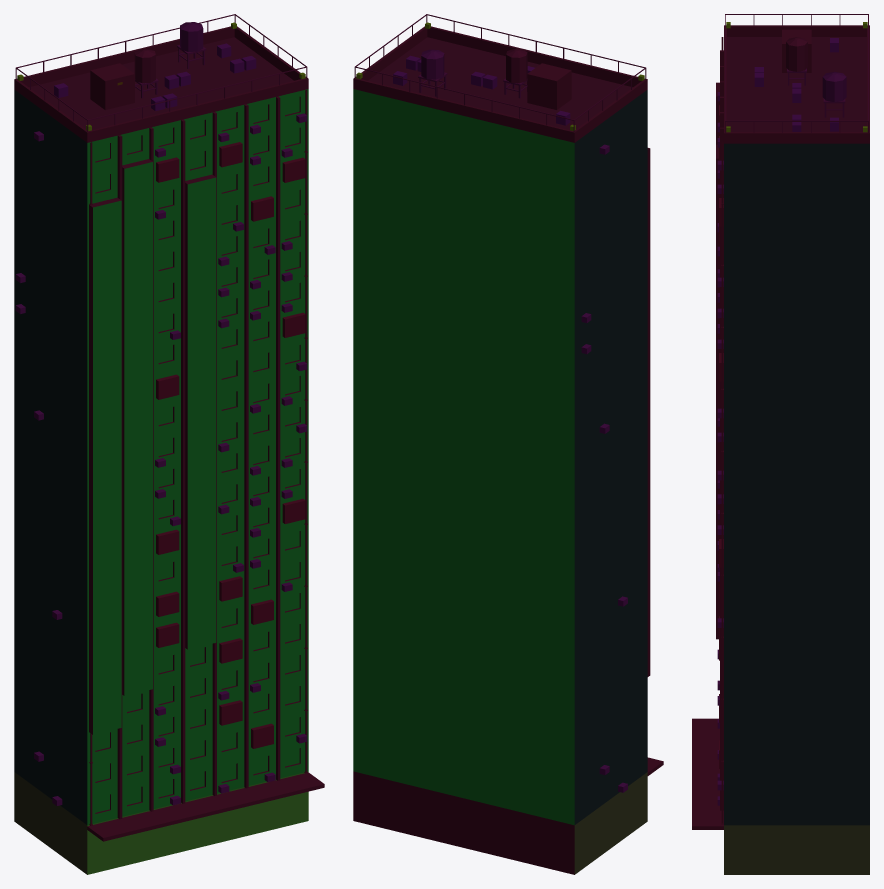
Rendered from slab_d.glb.
The picture shows the model from 3 angles, left to right: view 1: azimuth 30°, elevation 25°; view 2: azimuth 150°, elevation 25°; view 3: azimuth 270°, elevation 25°; orthographic projection.
Parts seen in each view (by area): view 1: slab_d; view 2: slab_d; view 3: slab_d.
Part boxes in pixels (<box>): slab_d: <box>14,14,324,874</box>; slab_d: <box>353,14,663,874</box>; slab_d: <box>692,14,869,874</box>.
Size of the model in its own units: 22.95 by 74.96 by 15.6.
